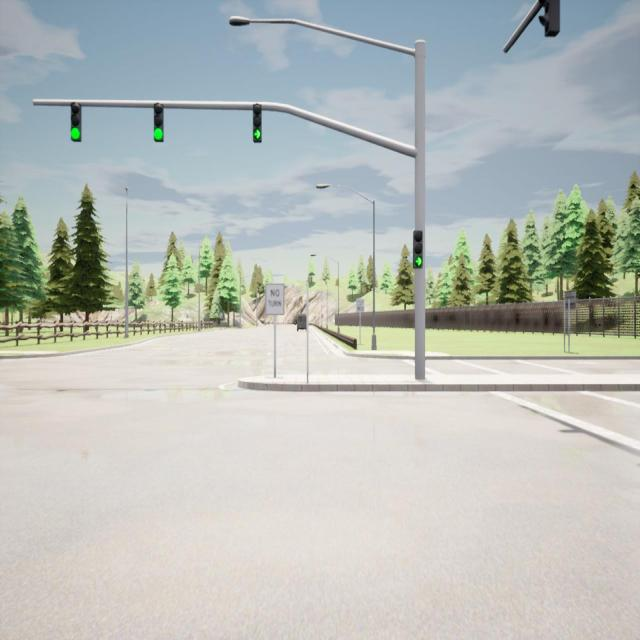Traffic_Signs: (266, 284, 284, 315), (356, 299, 364, 313)
Vehicle: (297, 314, 307, 331)
traffic_light: (538, 0, 559, 37), (69, 102, 82, 141), (413, 230, 423, 268), (253, 103, 262, 143), (154, 103, 163, 142)
